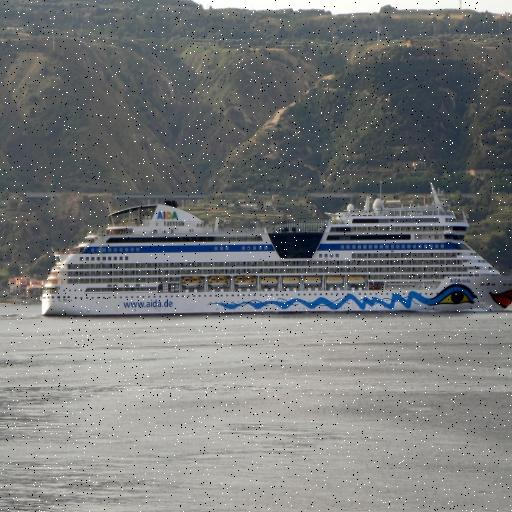cruises: (44, 181, 512, 323)
